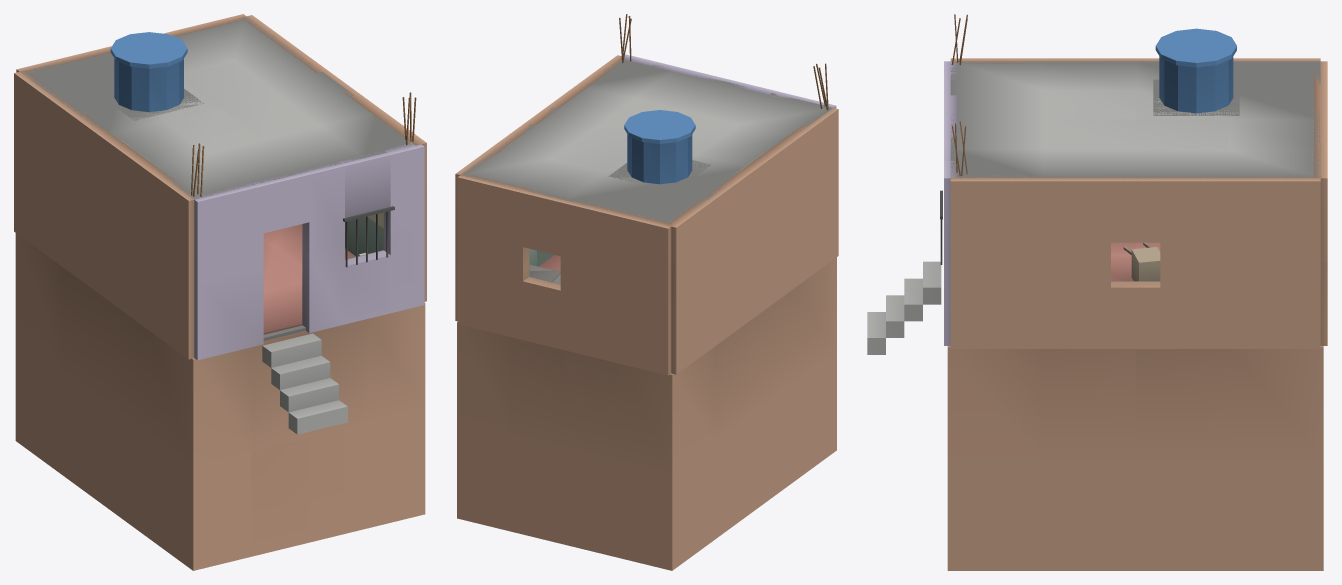
Rendered from barraco_7.glb.
3 views of the same model, side by side, from view 1: azimuth 30°, elevation 25°; view 2: azimuth 150°, elevation 25°; view 3: azimuth 270°, elevation 25° (orthographic). The views are drawn at different scales.
Visible parts, largest first — view 1: longe, ext, detalhe, dentro; view 2: longe, ext, detalhe, dentro; view 3: longe, ext, detalhe, dentro.
Part boxes in pixels (box(x1,y1,x2,y2)): longe: box(15, 17, 425, 570); ext: box(14, 14, 426, 360); detalhe: box(94, 32, 416, 434); dentro: box(23, 36, 414, 340); longe: box(457, 58, 836, 570); ext: box(455, 54, 838, 375); detalhe: box(608, 14, 828, 191); dentro: box(492, 95, 783, 284); longe: box(947, 61, 1323, 570); ext: box(944, 58, 1327, 348); detalhe: box(867, 14, 1239, 354); dentro: box(957, 109, 1313, 281).
Size of what is drawn, in the model's own units: 4.72 by 7.93 by 7.46.
